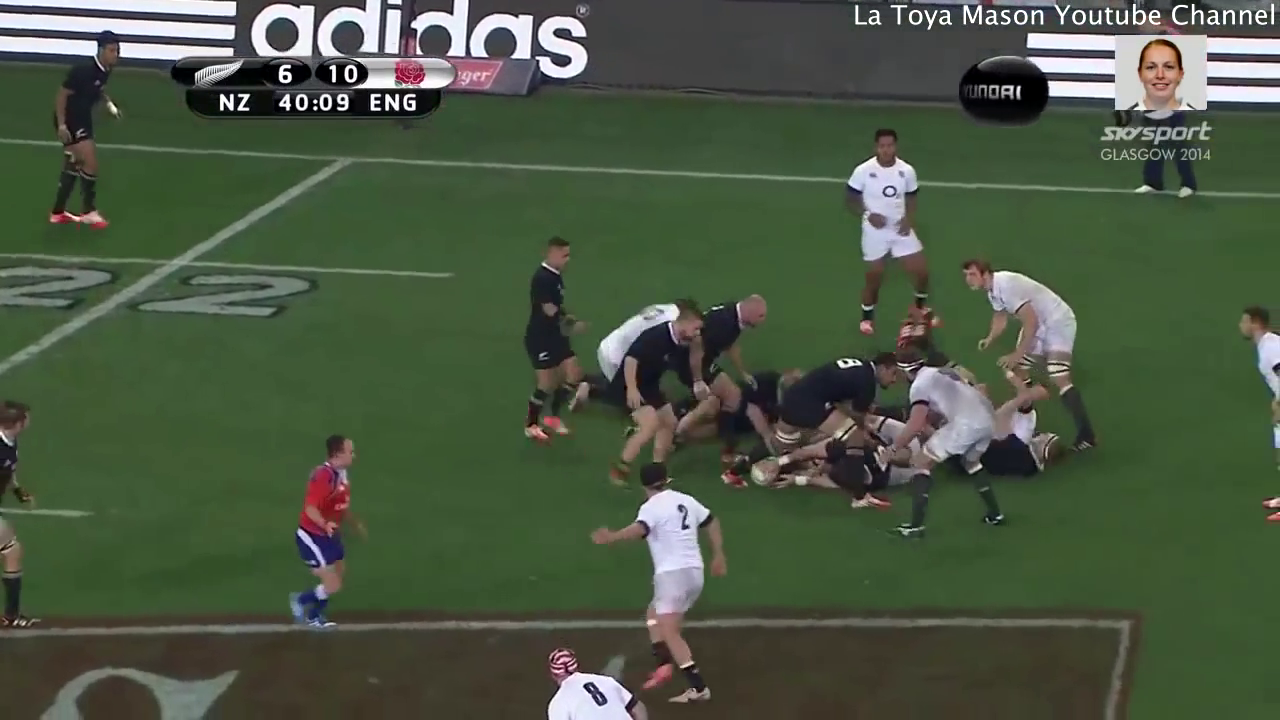ball: (749, 451, 789, 496)
player: (587, 460, 728, 704), (954, 253, 1101, 458), (881, 349, 1014, 532), (837, 122, 949, 332), (766, 343, 903, 504), (39, 24, 136, 235), (602, 304, 710, 492), (277, 429, 377, 632), (512, 224, 579, 448), (1227, 299, 1280, 524), (1, 388, 49, 636), (577, 286, 683, 382), (537, 640, 658, 720), (697, 285, 763, 386)
ruck: (712, 336, 1053, 514)
